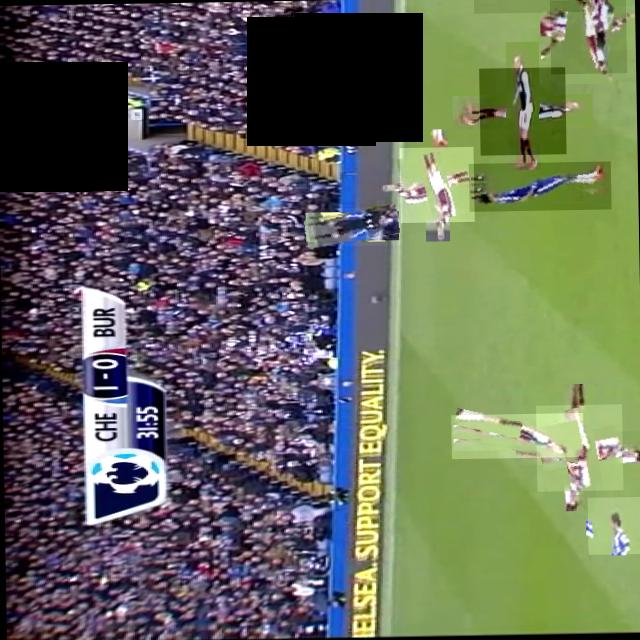referee: (303, 206, 399, 246)
soccer-player: (478, 67, 566, 155), (535, 404, 622, 491), (467, 161, 610, 211), (450, 412, 582, 458), (398, 146, 473, 222), (548, 0, 625, 74), (586, 496, 640, 554), (578, 5, 636, 50), (472, 0, 601, 13)
